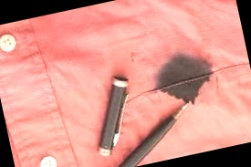ink: (158, 55, 214, 102)
